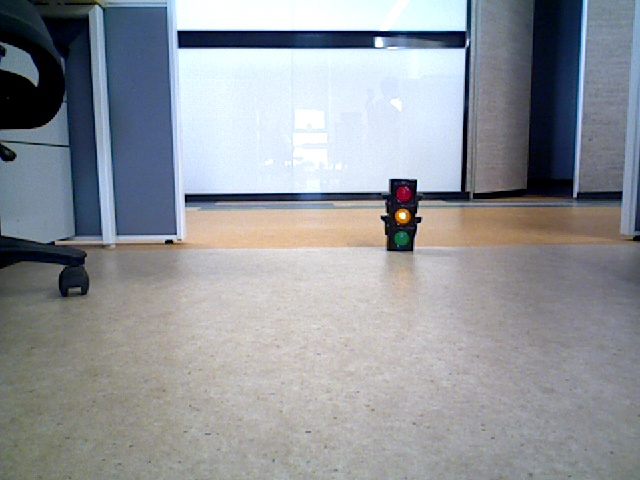yellow: (390, 178, 414, 249)
